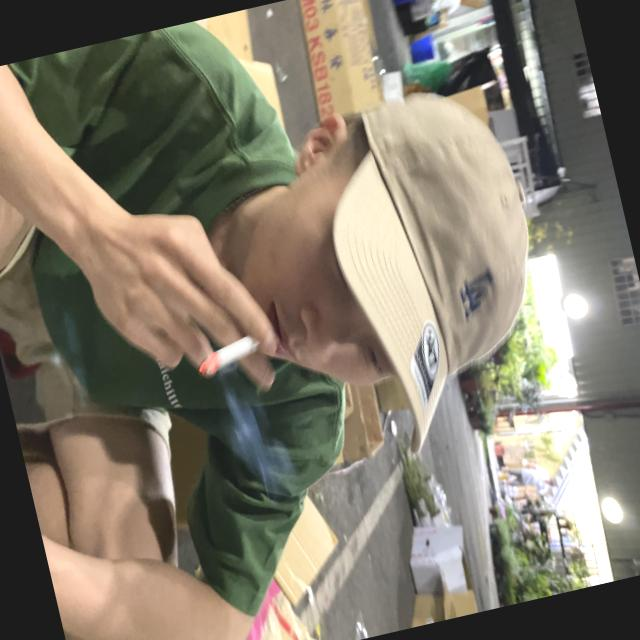cigarette: (172, 317, 288, 390)
